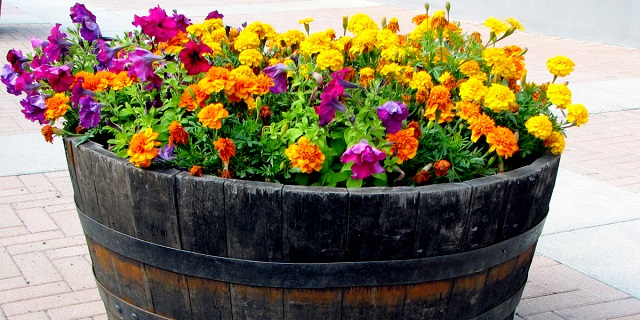plant: (3, 1, 589, 320)
